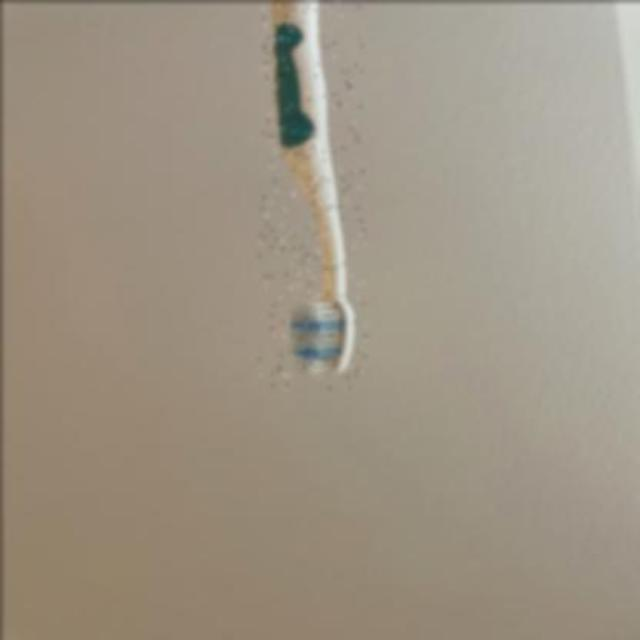toothbrush: (258, 0, 366, 388)
